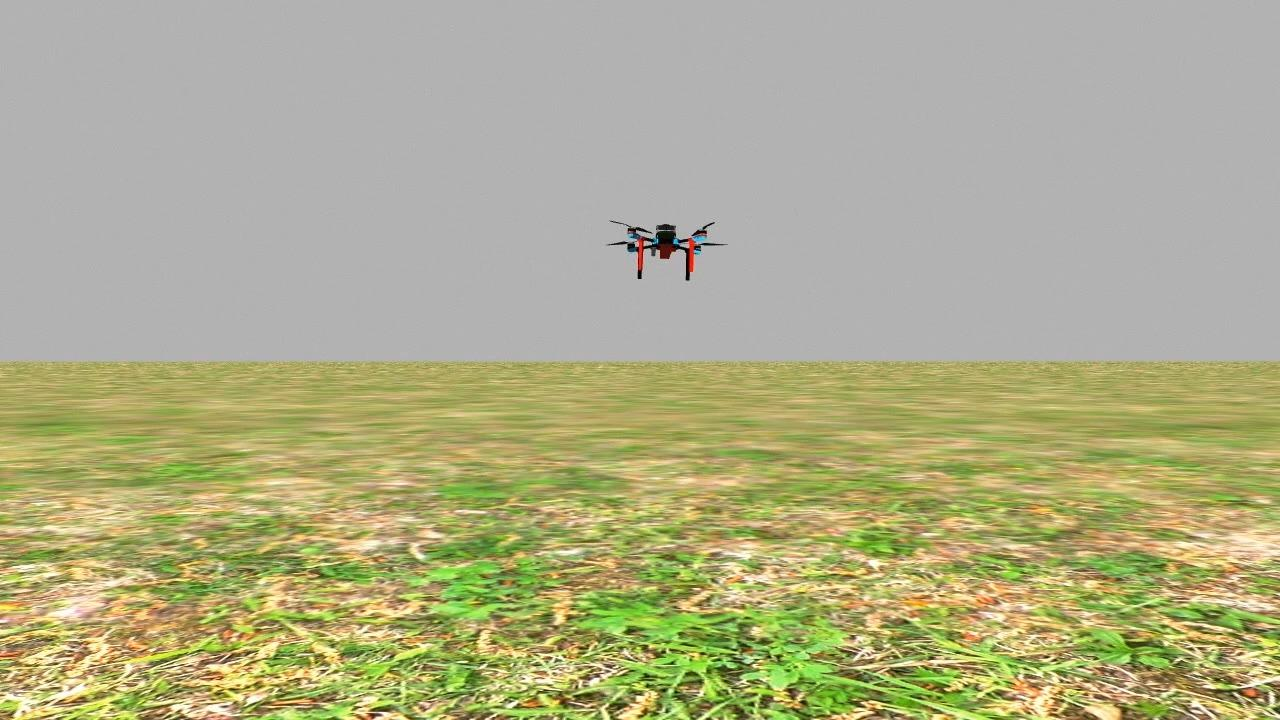UAV: (612, 216, 734, 290)
